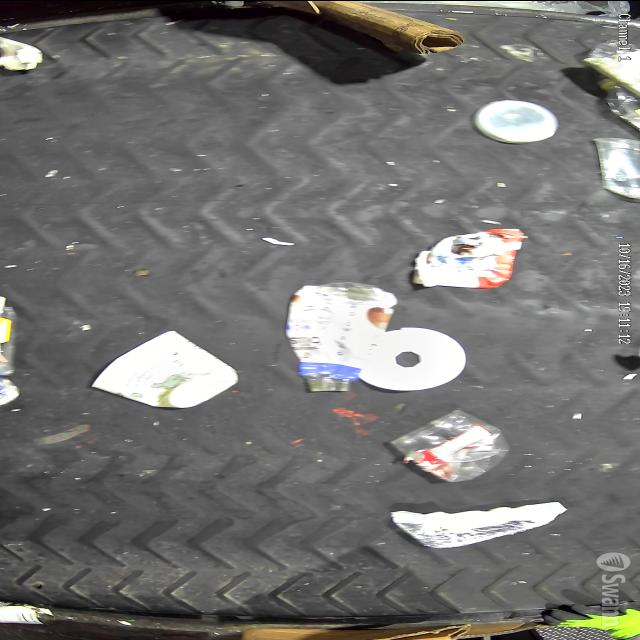can: (0, 598, 56, 626)
